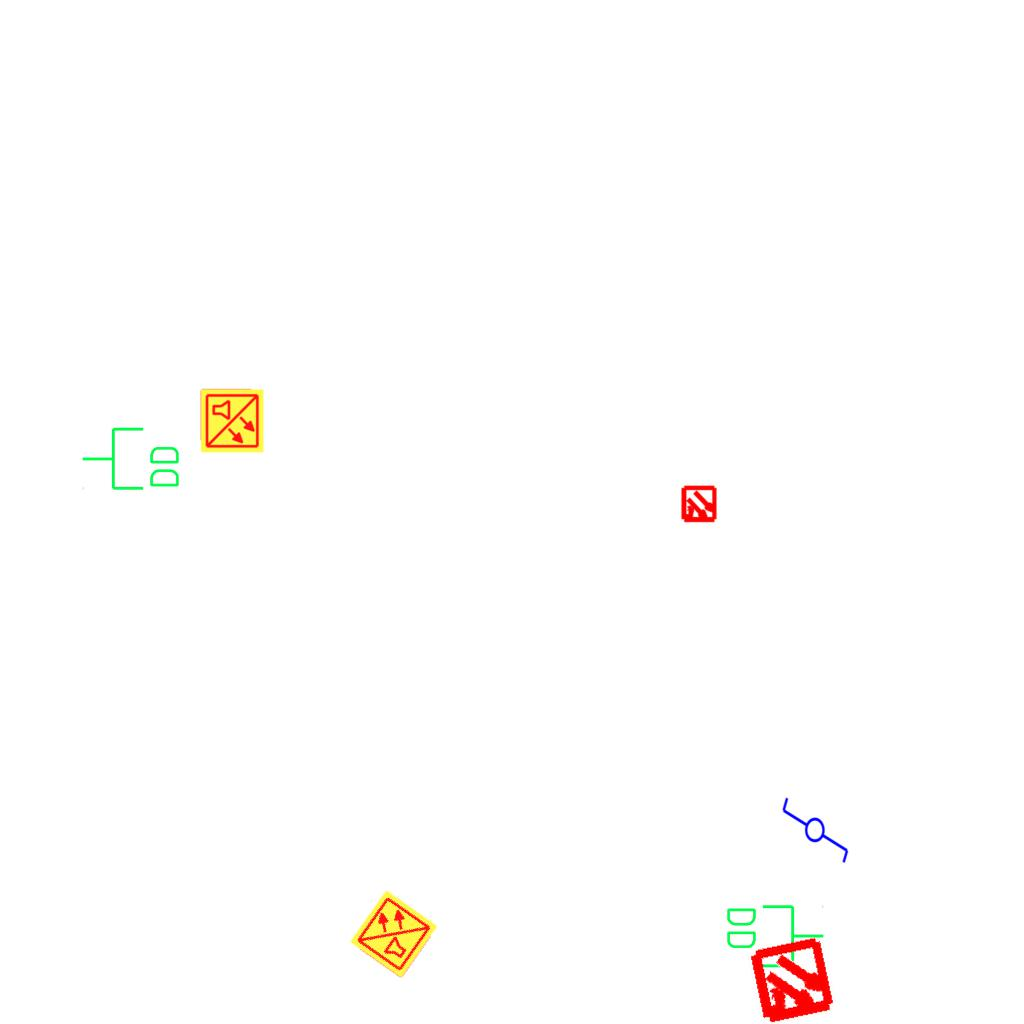Datenanschluss_zweifach: (723, 901, 826, 970), (80, 425, 183, 494)
OKW_Multisensormelder_(Kombination_optischer_Rauch-Kahlenmonoxid_Waerme-Melder): (348, 888, 440, 980), (199, 388, 265, 454)
OT_Multisensormelder_(Kombination_RMO_WMD): (725, 915, 860, 1024), (671, 477, 727, 533)
Wechselschalter: (780, 787, 852, 865)
